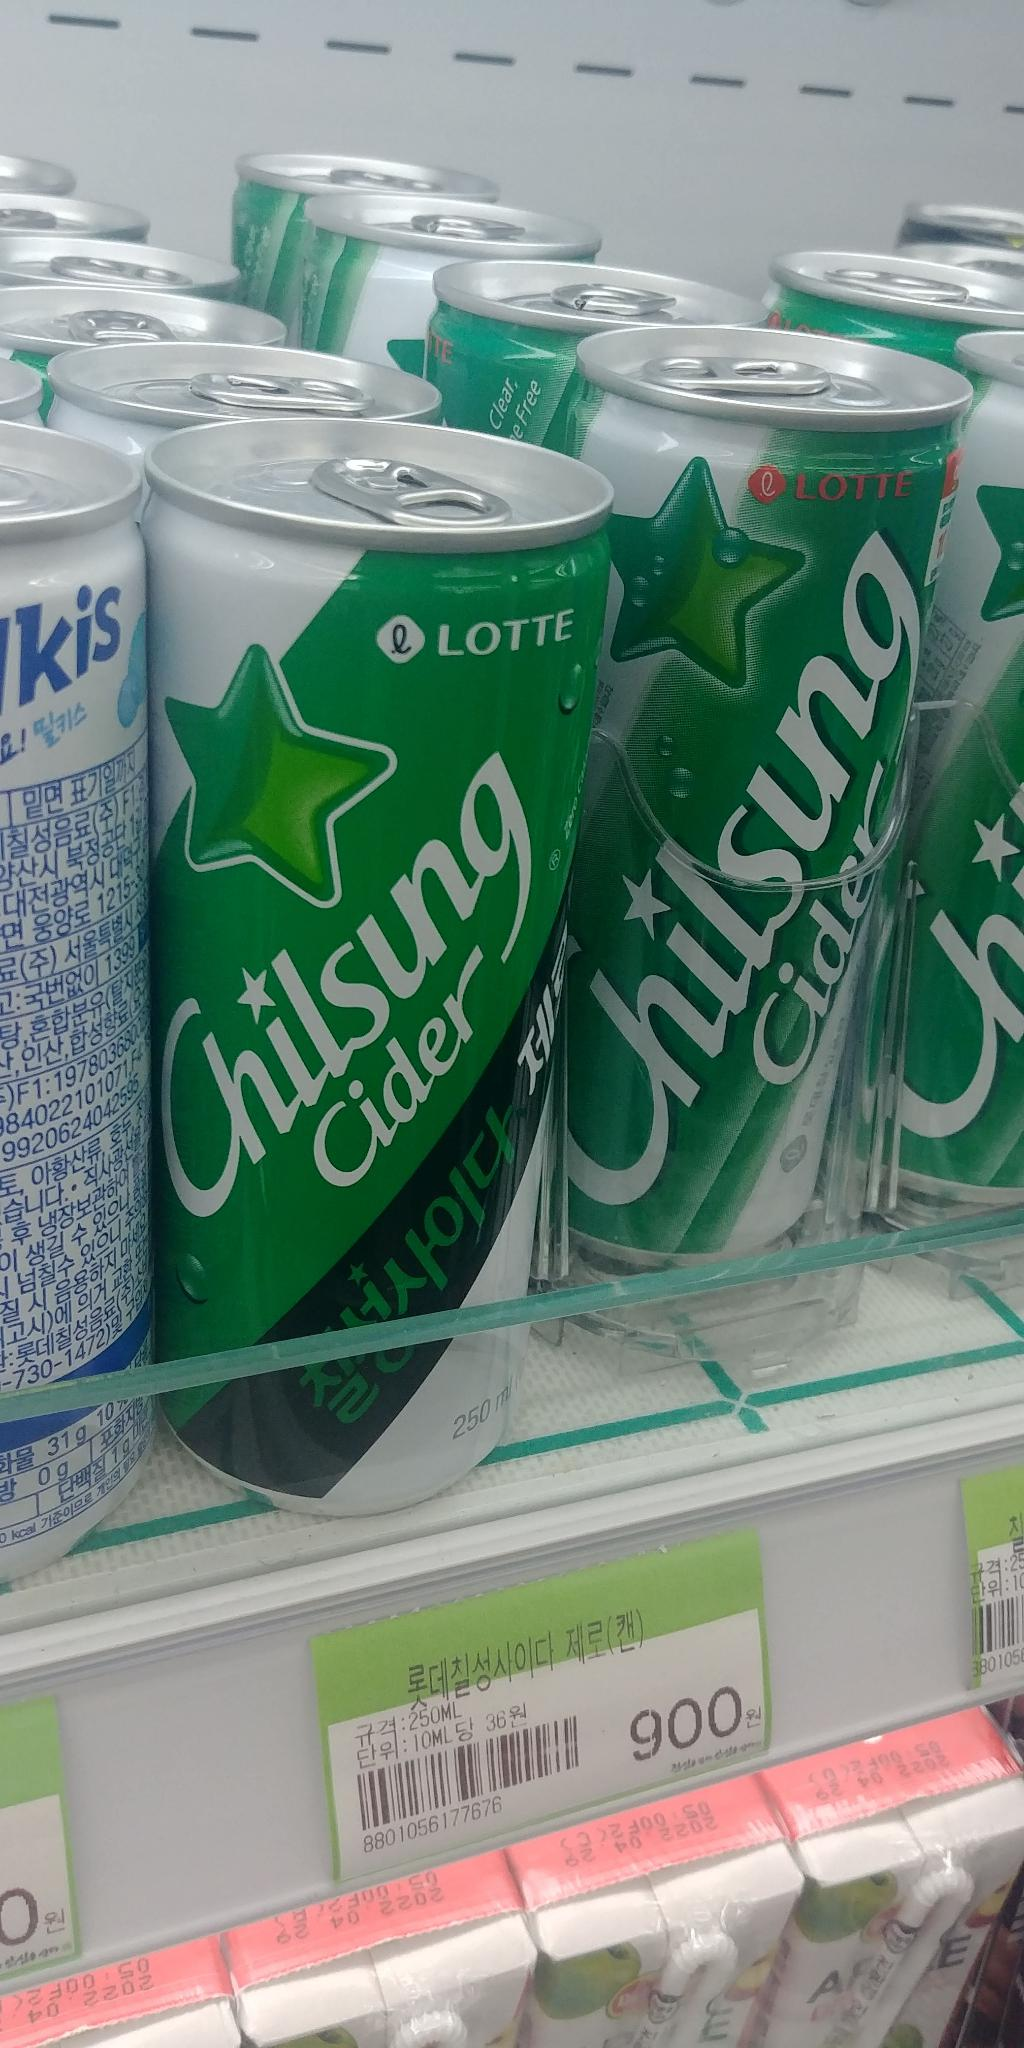chilsungcider_zero: (136, 410, 620, 1527)
